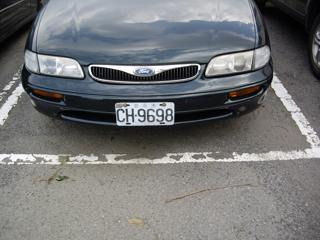plate: (113, 100, 176, 127)
